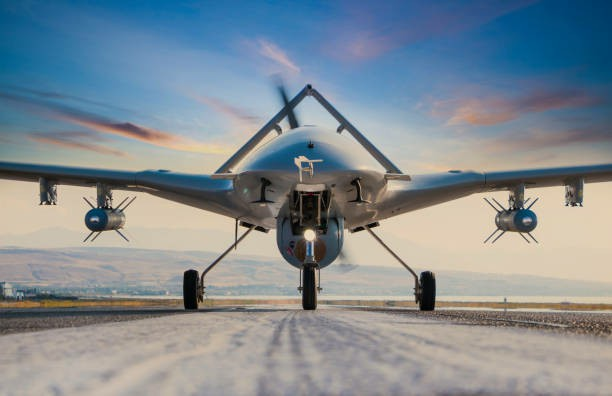maybay_khongnguoilai: (13, 86, 612, 304)
